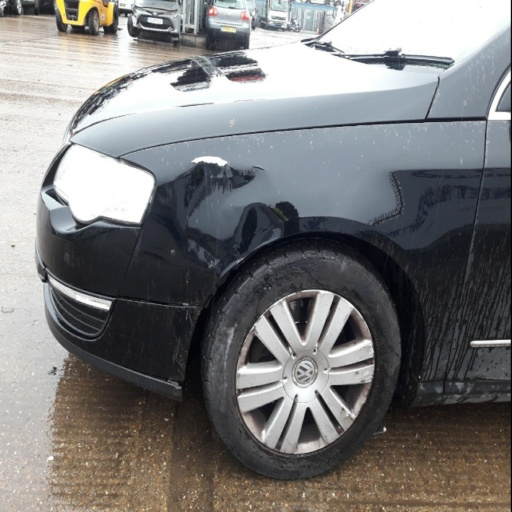dent: (176, 164, 285, 279), (155, 184, 171, 209)
scratch: (238, 332, 250, 363), (359, 371, 373, 384), (341, 409, 355, 422), (343, 309, 353, 324), (251, 323, 260, 338), (237, 372, 245, 384), (368, 342, 374, 356), (265, 433, 271, 446), (178, 301, 191, 306), (291, 440, 296, 453), (255, 317, 262, 325), (280, 296, 285, 307), (324, 433, 329, 444), (170, 247, 176, 254), (283, 446, 287, 454), (360, 316, 364, 323), (361, 345, 368, 349), (294, 291, 303, 294), (355, 370, 359, 376)
